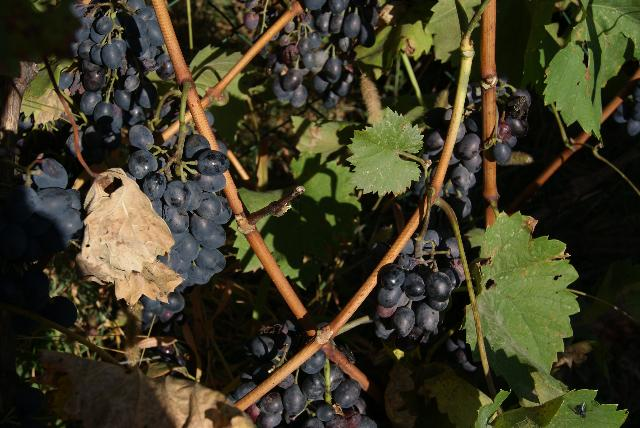grapes: (129, 135, 231, 325), (55, 0, 174, 161), (272, 0, 376, 106), (374, 230, 465, 351), (0, 158, 84, 264), (235, 361, 315, 428), (0, 266, 78, 326), (302, 400, 360, 428), (305, 370, 330, 395), (336, 380, 359, 405), (11, 315, 39, 335), (60, 190, 62, 192)
